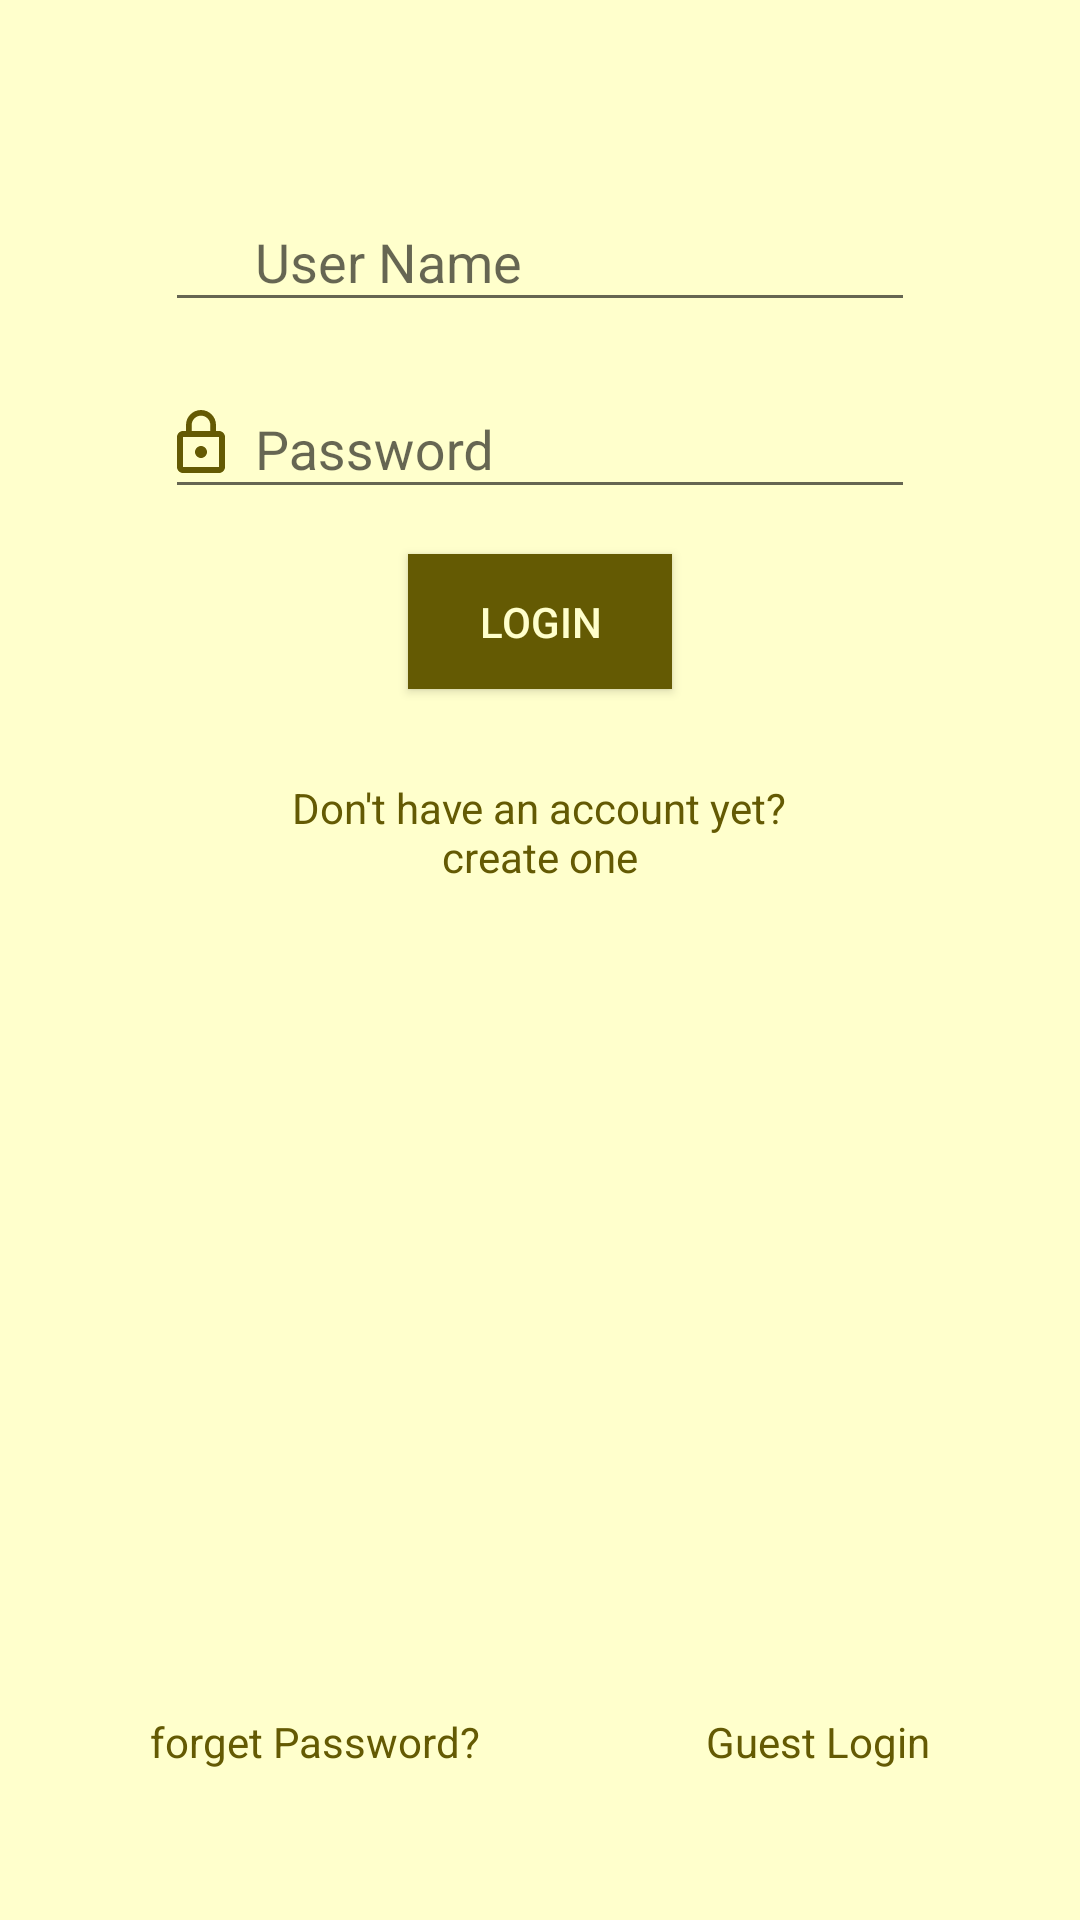

Screen size 1080px x 1920px. Icon name, then its center in pixels as (x,y):
lock: (201,441)
